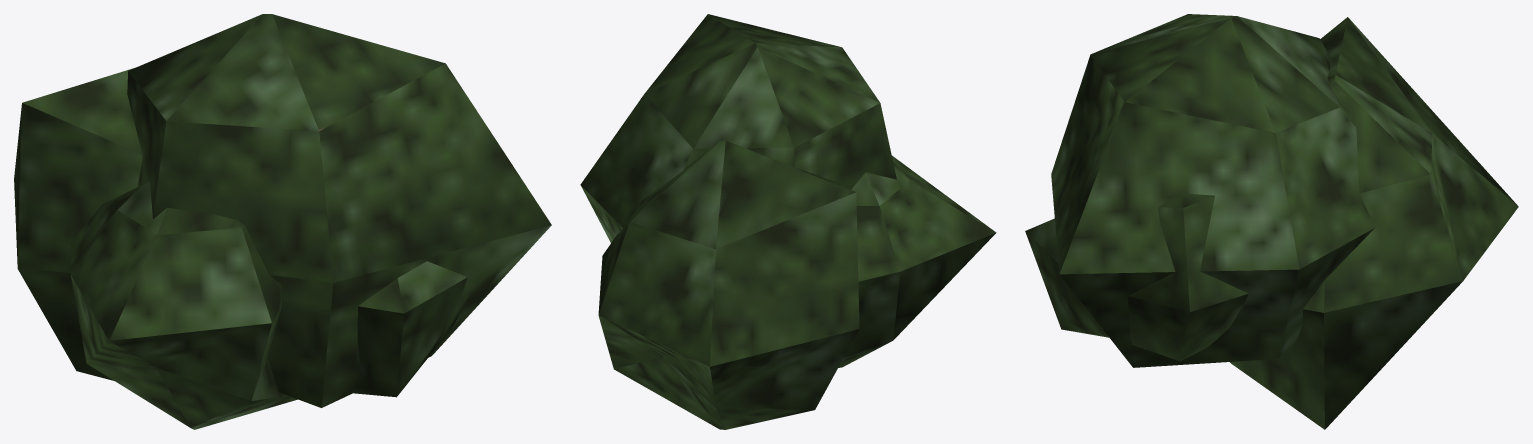
File: bush.obj
The picture shows the model from 3 angles, left to right: view 1: azimuth 30°, elevation 25°; view 2: azimuth 150°, elevation 25°; view 3: azimuth 270°, elevation 25°; orthographic projection. The views are drawn at different scales.
Parts seen in each view (by area): view 1: bush; view 2: bush; view 3: bush.
Boxes of the visible parts, x1,y1,x2,y2 form: bush: [14, 14, 551, 429]; bush: [580, 14, 996, 429]; bush: [1025, 14, 1518, 429].
Size of the model in its own units: 1.56 by 1.48 by 1.69.
1 material, 1 textured.
